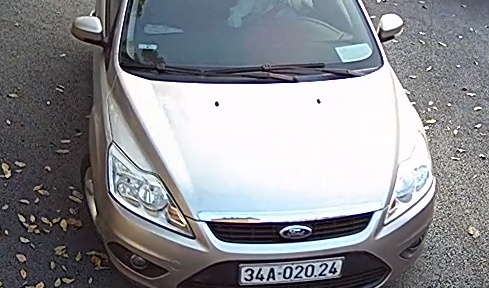vehicle plate: (237, 257, 352, 288)
